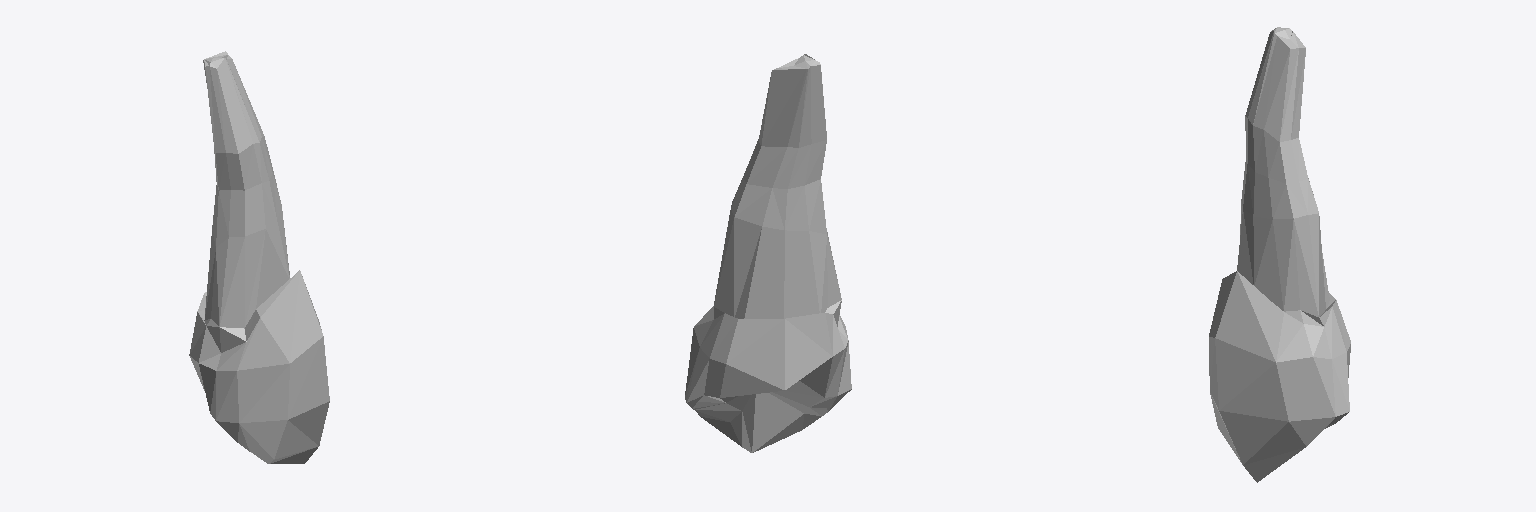
The model's file is Upper_Canine_Right.obj.
3 views of the same model, side by side, from view 1: azimuth 30°, elevation 25°; view 2: azimuth 150°, elevation 25°; view 3: azimuth 270°, elevation 25° (orthographic).
Visible parts, largest first — view 1: Upper_Canine_Right Upper_Teeth Teeth group1; view 2: Upper_Canine_Right Upper_Teeth Teeth group1; view 3: Upper_Canine_Right Upper_Teeth Teeth group1.
Part boxes in pixels (bbox=[...]): Upper_Canine_Right Upper_Teeth Teeth group1: bbox=[189, 51, 329, 463]; Upper_Canine_Right Upper_Teeth Teeth group1: bbox=[685, 54, 851, 452]; Upper_Canine_Right Upper_Teeth Teeth group1: bbox=[1209, 27, 1350, 482].
Size of the model in its own units: 0.0915 by 0.2715 by 0.084.